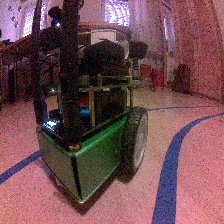rob: (34, 38, 148, 205)
